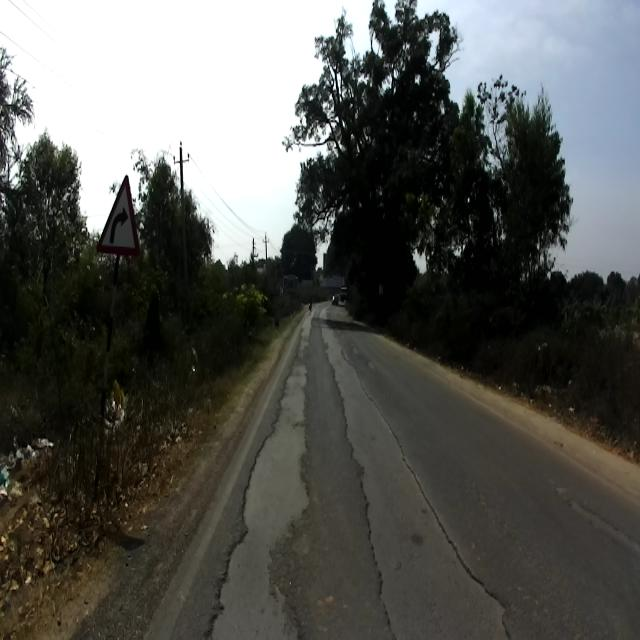sign board ahead at: (94, 172, 144, 262)
